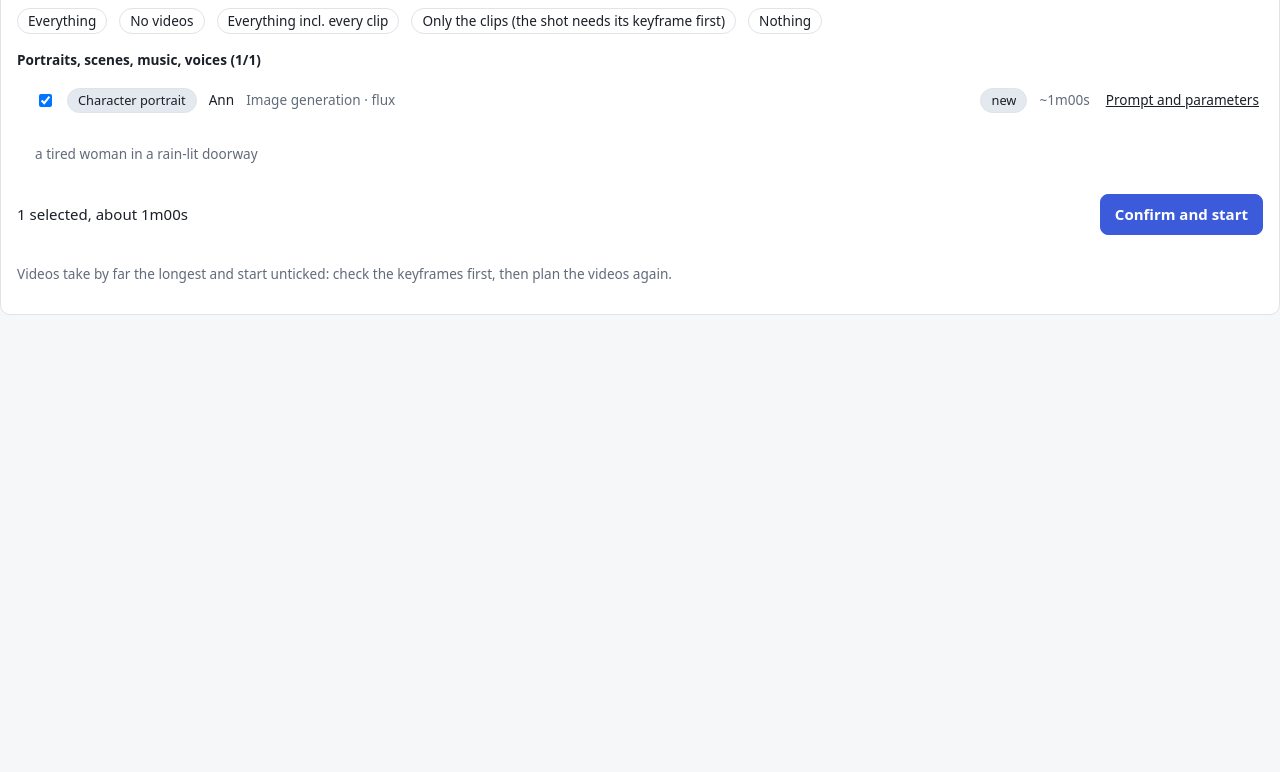
Scenario: the production plan › shows each task's prompt and opens it for editing and confirming
Expected: the text "a tired woman in a rain-lit doorway" is shown, [35,144,258,163]
Click the button "Prompt and parameters".
click(1182, 101)  # box [1102,86,1263,115]
(page scrolled)
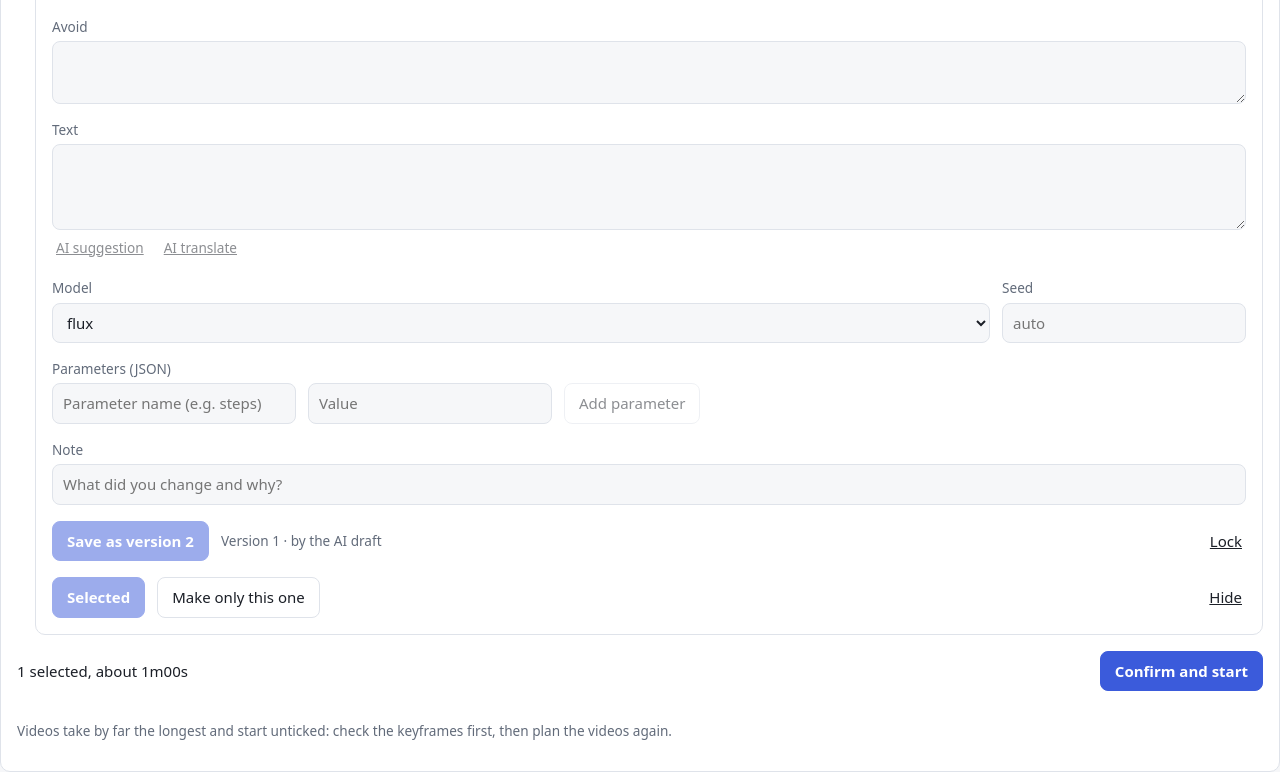
Result: the button "Make only this one" is shown at [157,577,320,618]
Result: the button "Selected" is shown at [52,577,145,618]
